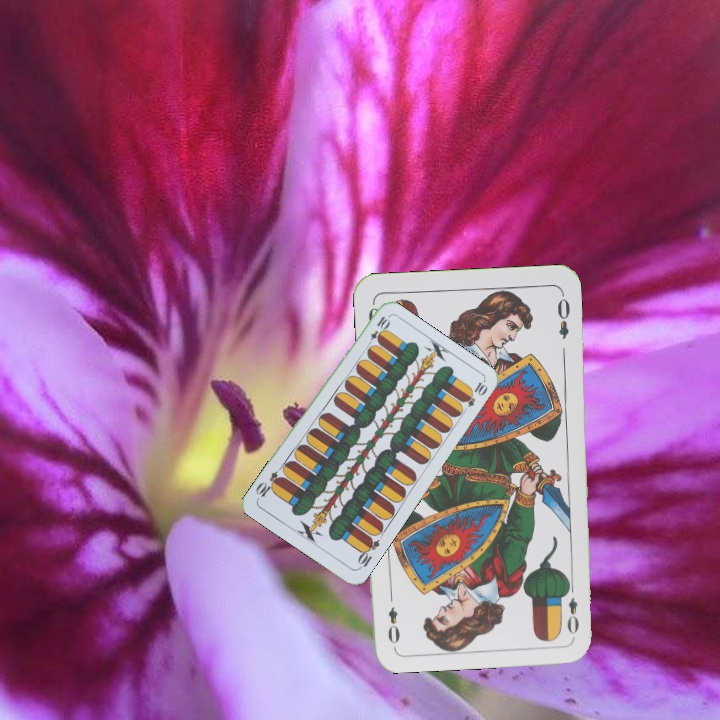E10: (353, 533, 382, 572), (363, 312, 392, 350)
EO: (561, 579, 581, 636)
